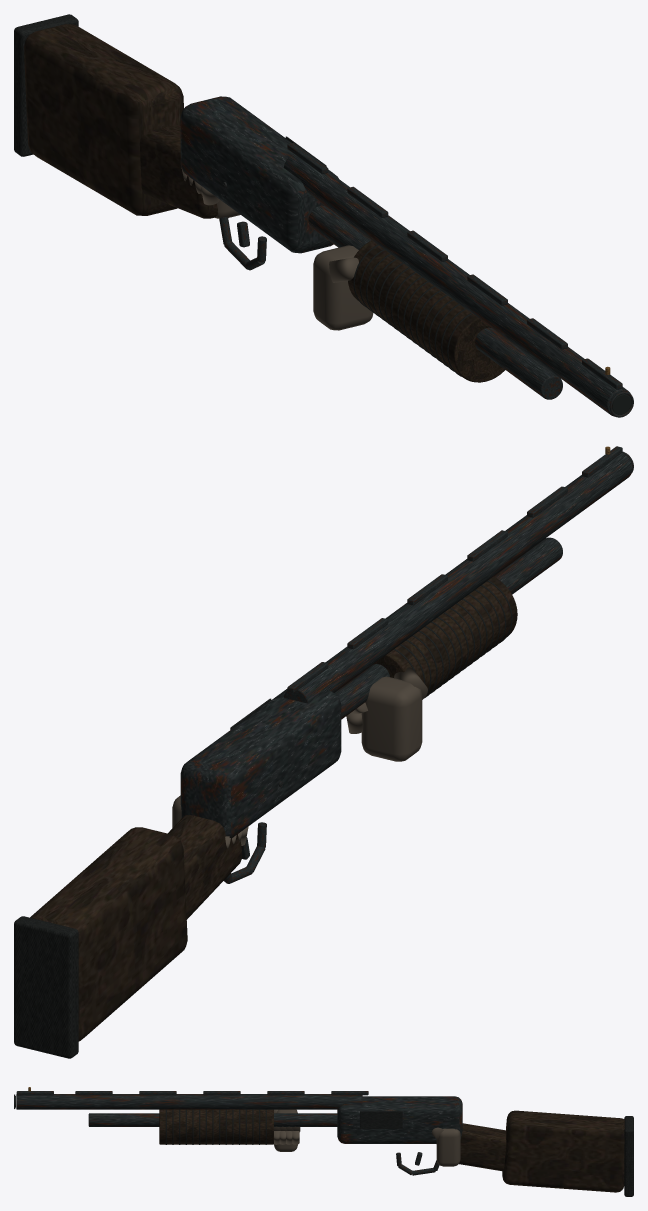
Rendered from shotgun.glb.
3 renders of one model, top to bottom at view 1: azimuth 30°, elevation 25°; view 2: azimuth 150°, elevation 25°; view 3: azimuth 270°, elevation 25°, orthographic. The views are drawn at different scales.
Parts seen in each view (by area): view 1: Shaped walnut stock, Rounded shotgun receiver, Bl u ed barrel, Walnut pump forend, Magazine tube, Walnut wrist, gloved palm.004, Aged rubber butt pad, thumb.004; view 2: Shaped walnut stock, Rounded shotgun receiver, Bl u ed barrel, Aged rubber butt pad, Walnut pump forend, gloved palm.004, Walnut wrist, Magazine tube; view 3: Shaped walnut stock, Bl u ed barrel, Rounded shotgun receiver, Walnut pump forend, Walnut wrist, Magazine tube, gloved palm.003, Aged rubber butt pad, Ejection opening, gloved palm.004, Raised sight rib, Raised sight rib.001 (+4 smaller).
Part boxes in pixels (x1,y1,x2,y2): Shaped walnut stock: [24, 24, 183, 215]; Rounded shotgun receiver: [180, 96, 338, 253]; Bl u ed barrel: [284, 154, 631, 416]; Walnut pump forend: [348, 240, 504, 382]; Magazine tube: [308, 205, 562, 399]; Walnut wrist: [139, 125, 217, 218]; gloved palm.004: [313, 245, 373, 330]; Aged rubber butt pad: [14, 14, 78, 156]; thumb.004: [329, 257, 358, 282]; Shaped walnut stock: [30, 827, 187, 1041]; Rounded shotgun receiver: [180, 689, 341, 838]; Bl u ed barrel: [284, 453, 632, 703]; Aged rubber butt pad: [14, 916, 78, 1058]; Walnut pump forend: [373, 576, 517, 696]; gloved palm.004: [361, 676, 422, 761]; Walnut wrist: [168, 815, 242, 919]; Magazine tube: [334, 537, 562, 719]; Shaped walnut stock: [502, 1110, 624, 1192]; Bl u ed barrel: [16, 1094, 362, 1109]; Rounded shotgun receiver: [337, 1096, 462, 1143]; Walnut pump forend: [159, 1109, 273, 1144]; Walnut wrist: [459, 1123, 506, 1171]; Magazine tube: [88, 1113, 337, 1126]; gloved palm.003: [436, 1128, 460, 1166]; Aged rubber butt pad: [624, 1116, 633, 1196]; Ejection opening: [360, 1111, 402, 1128]; gloved palm.004: [274, 1109, 297, 1151]; Raised sight rib: [331, 1091, 368, 1095]; Raised sight rib.001: [267, 1091, 304, 1095].
Size of the model in its own units: 0.0998 by 0.212 by 1.16.
Materials: 6 (4 with a texture image).
